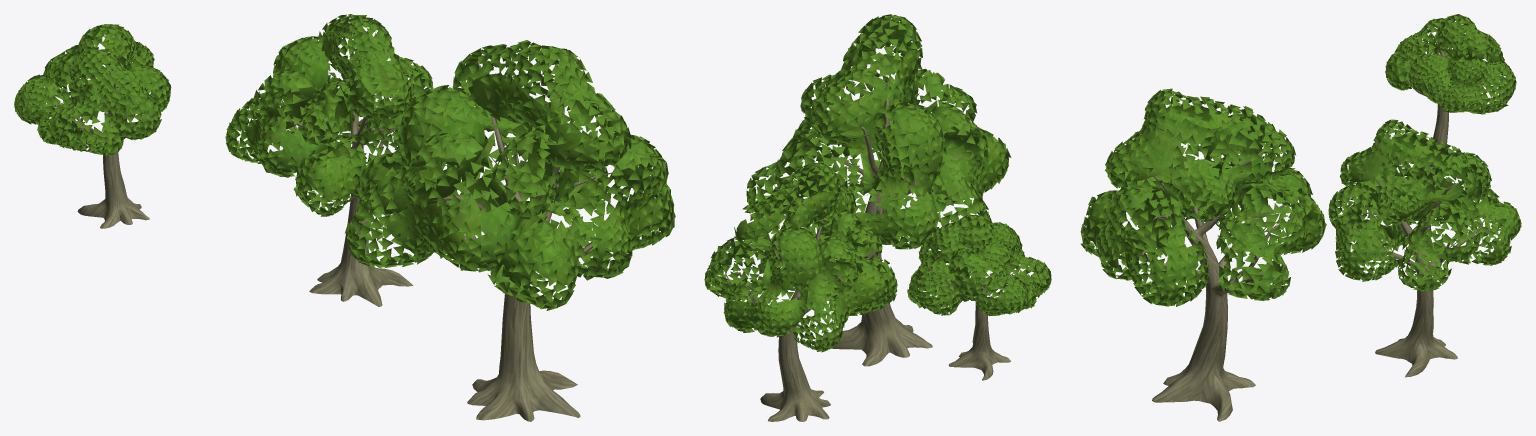
File: SM_ENV_LKNVLD_TreeSet_M.FBX
3 views of the same model, side by side, from view 1: azimuth 30°, elevation 25°; view 2: azimuth 150°, elevation 25°; view 3: azimuth 270°, elevation 25° (orthographic). The views are drawn at different scales.
Parts seen in each view (by area): view 1: SM_ENV_LKNVLD_TreeSet_M; view 2: SM_ENV_LKNVLD_TreeSet_M; view 3: SM_ENV_LKNVLD_TreeSet_M.
Part boxes in pixels (x1,y1,x2,y2): SM_ENV_LKNVLD_TreeSet_M: (14, 14, 675, 421); SM_ENV_LKNVLD_TreeSet_M: (704, 14, 1051, 421); SM_ENV_LKNVLD_TreeSet_M: (1080, 14, 1521, 421).
Bounding box in the file's own units: 2395 × 1839 × 2396.
